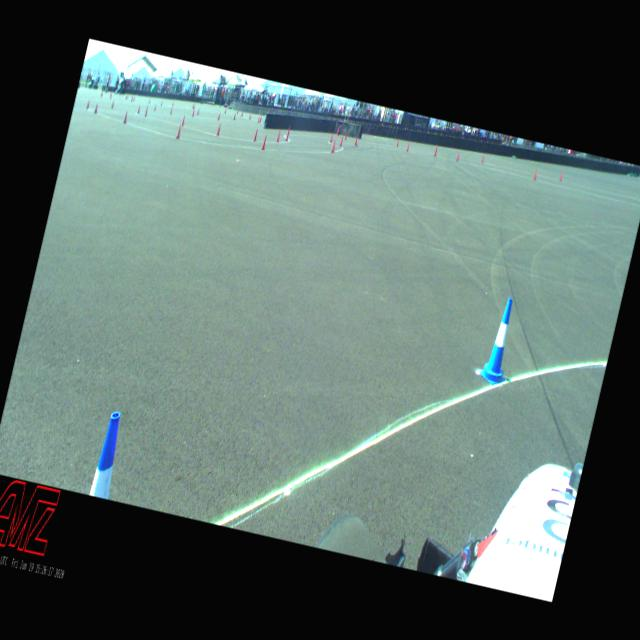blue_cone: (478, 296, 522, 386), (89, 409, 129, 500)
